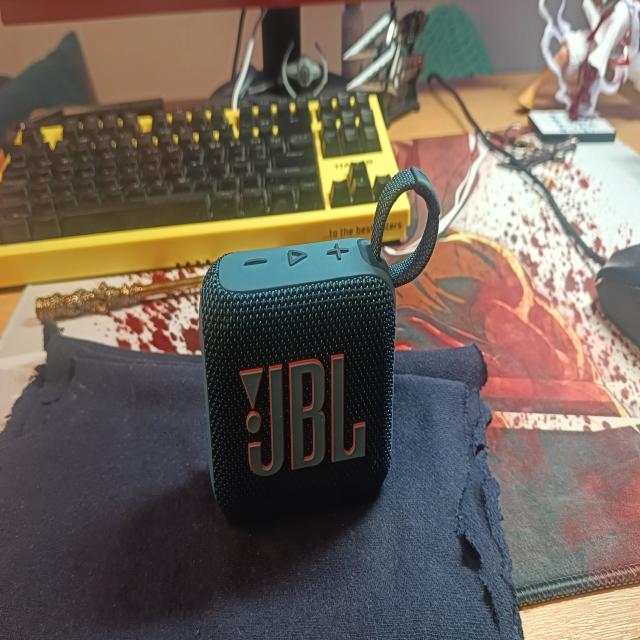column JBL: (198, 234, 398, 518)
